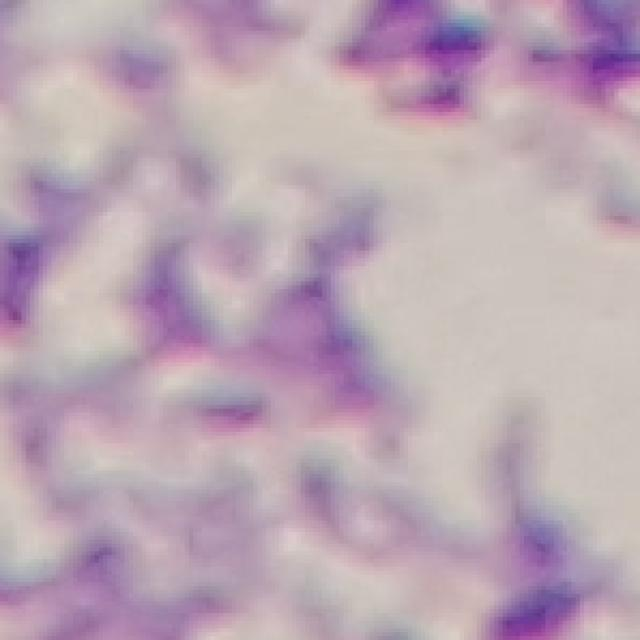non-sperm: (0, 189, 395, 447)
